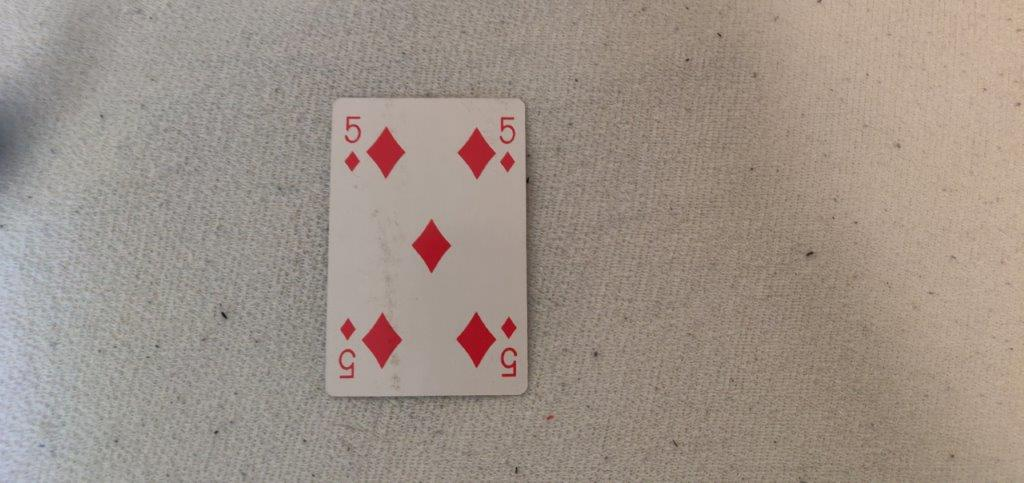5D: (337, 111, 370, 175), (495, 110, 521, 177)
